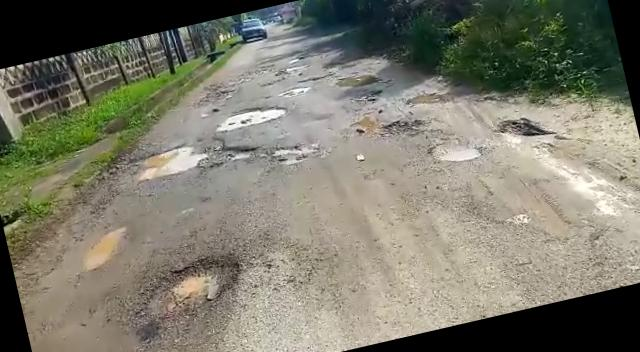pothole: (156, 249, 252, 320), (216, 124, 324, 180), (131, 140, 207, 185), (210, 98, 290, 134), (429, 132, 491, 169), (276, 82, 315, 98)
